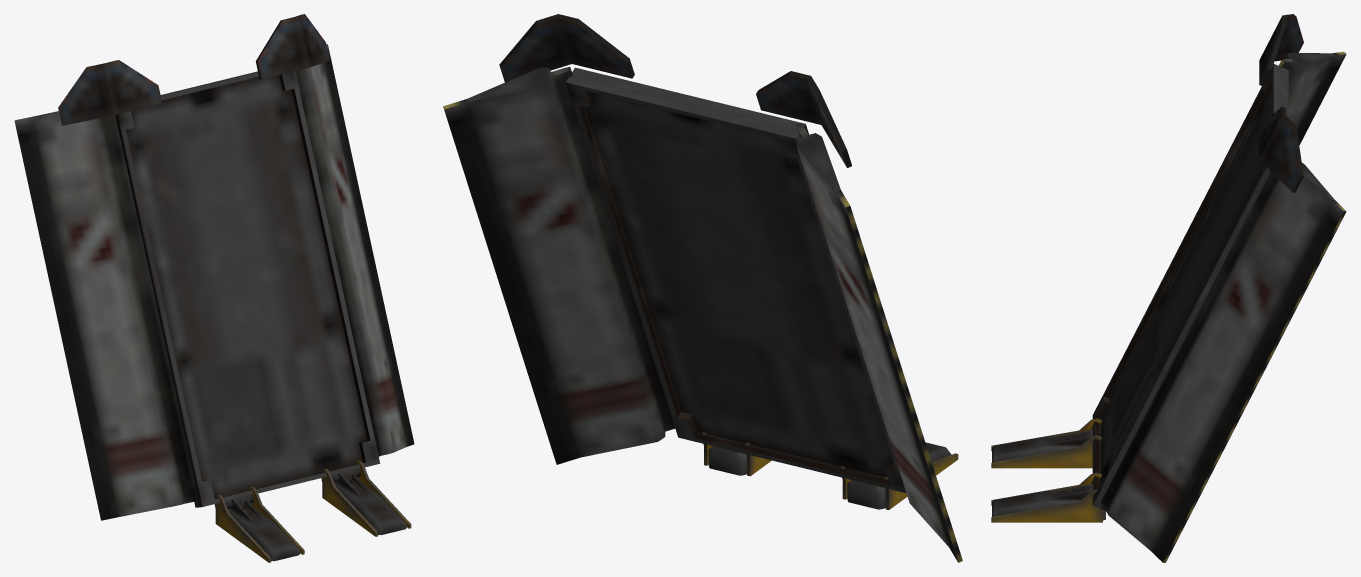
File: Shield_03.FBX
3 views of the same model, side by side, from view 1: azimuth 30°, elevation 25°; view 2: azimuth 150°, elevation 25°; view 3: azimuth 270°, elevation 25° (orthographic). The views are drawn at different scales.
Visible parts, largest first — view 1: Shield_03; view 2: Shield_03; view 3: Shield_03.
Part boxes in pixels (<box>): Shield_03: <box>14,14,414,562</box>; Shield_03: <box>443,14,962,562</box>; Shield_03: <box>991,14,1346,562</box>.
Size of the model in its own units: 177 by 217 by 166.
